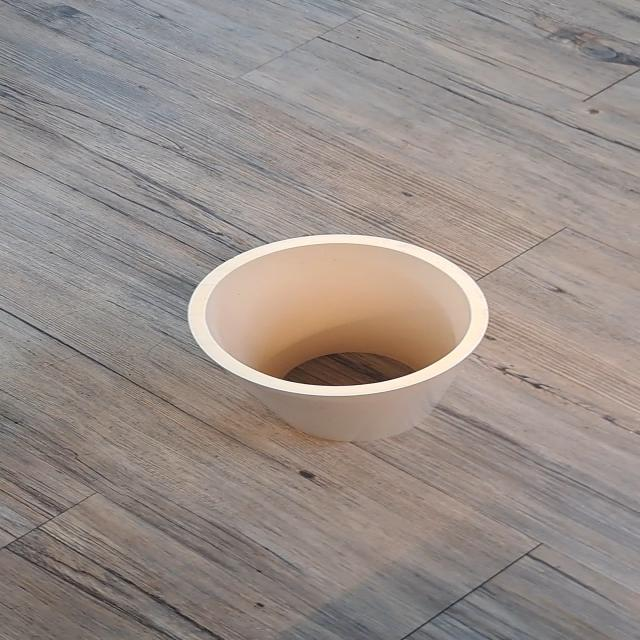CORAL: (146, 212, 494, 457)
